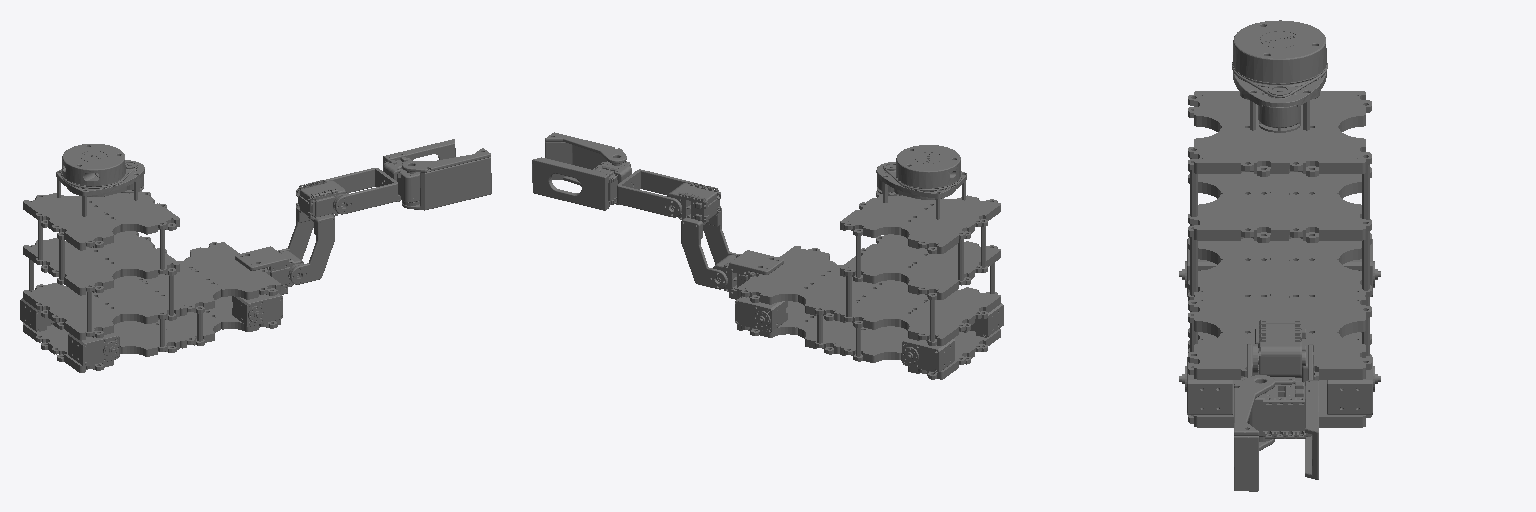
robot.urdf — ai_car:
<?xml version="1.0"?>
<robot name="ai_car">
    <material name="grey">
        <color rgba="0.5 0.5 0.5 1.0"/>
    </material>

    <link name="base_footprint"/>

    <joint name="base_joint" type="fixed">
        <parent link="base_footprint"/>
        <child link="base_link"/>
        <origin xyz="0.0 0.0 0.010" rpy="0 0 0"/>
    </joint>

    <link name="base_link">
        <visual>
            <geometry>
                <mesh filename="package://ai_car/meshs/base_link.stl" scale="0.001 0.001 0.001"/>
            </geometry>
            <material name="grey"/>
        </visual>

        <collision>
            <origin xyz="0.0 0 0.09" rpy="0 0 0"/>
            <geometry>
                <box size="0.27 0.14 0.19"/>
            </geometry>
        </collision>

        <inertial>
            <origin xyz="0 0 0" rpy="0 0 0"/>
            <mass value="8.2573504e-01"/>
            <inertia ixx="2.2124416e-03" ixy="-1.2294101e-05" ixz="3.4938785e-05"
                    iyy="2.1193702e-03" iyz="-5.0120904e-06"
                    izz="2.0064271e-03" />
        </inertial>
    </link>

    <joint name="wheel_left_joint" type="continuous">
        <parent link="base_link"/>
        <child link="wheel_left_link"/>
        <axis xyz="0 0 1"/>
        <origin xyz="0.092 0.08 0.023" rpy="-1.57 0 0"/>
    </joint>

    <link name="wheel_left_link">
        <visual>
            <origin xyz="0.0 0.0 0.0" rpy="1.57 0.0 0.0"/>
            <geometry>
                <mesh filename="package://ai_car/meshs/left_tire.stl" scale="0.001 0.001 0.001"/>
            </geometry>
            <material name="grey"/>
        </visual>

        <collision>
            <origin xyz="0 0 0" rpy="0 0 0"/>
            <geometry>
                <cylinder length="0.018" radius="0.033"/>
            </geometry>
        </collision>

        <inertial>
            <origin xyz="0 0 0" />
            <mass value="2.8498940e-02" />
            <inertia ixx="1.1175580e-05" ixy="-4.2369783e-11" ixz="-5.9381719e-09"
                    iyy="1.1192413e-05" iyz="-1.4400107e-11"
                    izz="2.0712558e-05" />
        </inertial>
    </link>

    <joint name="wheel_right_joint" type="continuous">
        <parent link="base_link"/>
        <child link="wheel_right_link"/>
        <axis xyz="0 0 1"/>
        <origin xyz="0.092 -0.08 0.023" rpy="-1.57 0 0"/>
    </joint>

    <link name="wheel_right_link">
        <visual>
            <origin xyz="0.0 0.0 0.0" rpy="1.57 0.0 0.0"/>
            <geometry>
                <mesh filename="package://ai_car/meshs/right_tire.stl" scale="0.001 0.001 0.001"/>
            </geometry>
            <material name="grey"/>
        </visual>

        <collision>
            <origin xyz="0 0 0" rpy="0 0 0"/>
            <geometry>
                <cylinder length="0.018" radius="0.033"/>
            </geometry>
        </collision>

        <inertial>
            <origin xyz="0 0 0" />
            <mass value="2.8498940e-02" />
            <inertia ixx="1.1175580e-05" ixy="-4.2369783e-11" ixz="-5.9381719e-09"
                    iyy="1.1192413e-05" iyz="-1.4400107e-11"
                    izz="2.0712558e-05" />
        </inertial>
    </link>

    <joint name="wheel_rear_left_joint" type="continuous">
        <parent link="base_link"/>
        <child link="wheel_rear_left_link"/>
        <axis xyz="0 0 1"/>
        <origin xyz="-0.092 0.08 0.023" rpy="-1.57 0 0"/>
    </joint>

    <link name="wheel_rear_left_link">
        <visual>
            <origin xyz="0.0 0.0 0.0" rpy="1.57 0.0 0.0"/>
            <geometry>
                <mesh filename="package://ai_car/meshs/left_tire.stl" scale="0.001 0.001 0.001"/>
            </geometry>
            <material name="grey"/>
        </visual>

        <collision>
            <origin xyz="0 0 0" rpy="0 0 0"/>
            <geometry>
                <cylinder length="0.018" radius="0.033"/>
            </geometry>
        </collision>

        <inertial>
            <origin xyz="0 0 0" />
            <mass value="2.8498940e-02" />
            <inertia ixx="1.1175580e-05" ixy="-4.2369783e-11" ixz="-5.9381719e-09"
                    iyy="1.1192413e-05" iyz="-1.4400107e-11"
                    izz="2.0712558e-05" />
        </inertial>
    </link>

    <joint name="wheel_rear_right_joint" type="continuous">
        <parent link="base_link"/>
        <child link="wheel_rear_right_link"/>
        <axis xyz="0 0 1"/>
        <origin xyz="-0.092 -0.08 0.023" rpy="-1.57 0 0"/>
    </joint>

    <link name="wheel_rear_right_link">
        <visual>
            <origin xyz="0.0 0.0 0.0" rpy="1.57 0.0 0.0"/>
            <geometry>
                <mesh filename="package://ai_car/meshs/right_tire.stl" scale="0.001 0.001 0.001"/>
            </geometry>
            <material name="grey"/>
        </visual>

        <collision>
            <origin xyz="0 0 0" rpy="0 0 0"/>
            <geometry>
                <cylinder length="0.018" radius="0.033"/>
            </geometry>
        </collision>

        <inertial>
            <origin xyz="0 0 0" />
            <mass value="2.8498940e-02" />
            <inertia ixx="1.1175580e-05" ixy="-4.2369783e-11" ixz="-5.9381719e-09"
                    iyy="1.1192413e-05" iyz="-1.4400107e-11"
                    izz="2.0712558e-05" />
        </inertial>
    </link>

    <joint name="scan_joint" type="fixed">
        <parent link="base_link"/>
        <child link="base_scan"/>
        <origin xyz="-0.064 0.0 0.22" rpy="0.0 0.0 0.0"/>
    </joint>

    <link name="base_scan">
        <visual>
            <origin xyz="0.0 0.0 -0.022" rpy="0.0 0.0 0.0"/>
            <geometry>
                <mesh filename="package://ai_car/meshs/RP-lidar-A1.stl" scale="0.001 0.001 0.001"/>
            </geometry>
            <material name="grey"/>
        </visual>

        <collision>
            <origin xyz="0 0 -0.0065" rpy="0 0 0"/>
            <geometry>
                <cylinder length="0.0315" radius="0.055"/>
            </geometry>
        </collision>

        <inertial>
            <mass value="0.114" />
            <origin xyz="0 0 0" />
            <inertia ixx="0.001" ixy="0.0" ixz="0.0"
                    iyy="0.001" iyz="0.0"
                    izz="0.001" />
        </inertial>
    </link>

    <joint name="imu_joint" type="fixed">
        <parent link="base_link"/>
        <child link="imu_link"/>
        <origin xyz="0.04 0.0 0.0" rpy="0.0 0.0 0.0"/>
    </joint>

    <link name="imu_link"/>
    
    <joint name="arm_joint_1" type="revolute">
        <parent link="base_link"/>
        <child link="arm_link_1"/>
        <axis xyz="0 1 0"/>
        <limit lower="0" upper="1.57" velocity="50.0" effort="1000.0"/>
        <origin xyz="0.1735 -0.020375 0.03225" rpy="-3.14 1.57 0.0"/>
    </joint>

    <link name="arm_link_1">
        <visual>
            <origin xyz="0.0 0.0 0.0" rpy="3.14 0.0 0.0"/>
            <geometry>
                <mesh filename="package://ai_car/meshs/arm_link_1.stl" scale="0.001 0.001 0.001"/>
            </geometry>
            <material name="grey"/>
        </visual>

        <collision>
            <origin xyz="0 0 0" rpy="3.14 0 0"/>
            <geometry>
                <mesh filename="package://ai_car/meshs/arm_link_1.stl" scale="0.001 0.001 0.001"/>
            </geometry>
        </collision>

        <inertial>
            <origin xyz="3.0876154e-04 0.0000000e+00 -1.2176461e-04" />
            <mass value="7.9119962e-02" />
            <inertia ixx="1.2505234e-05" ixy="0.0" ixz="-1.7855208e-07"
                    iyy="2.1898364e-05" iyz="0.0"
                    izz="1.9267361e-05" />
        </inertial>
    </link>
    
    <joint name="arm_joint_2" type="revolute">
        <parent link="arm_link_1"/>
        <child link="arm_link_2"/>
        <axis xyz="0 1 0"/>
        <limit lower="-1.57" upper="0" velocity="50.0" effort="1000.0"/>
        <origin xyz="-0.072 0.0 -0.0568" rpy="0 1.57 0"/>

    </joint>

    <link name="arm_link_2">
        <visual>
            <origin xyz="0.0 0.0 0.0" rpy="3.14 0.0 0.0"/>
            <geometry>
                <mesh filename="package://ai_car/meshs/arm_link_2.stl" scale="0.001 0.001 0.001"/>
            </geometry>
            <material name="grey"/>
        </visual>

        <collision>
            <origin xyz="0 0 0" rpy="3.14 -0.785 0.0"/>
            <geometry>
                <mesh filename="package://ai_car/meshs/arm_link_2.stl" scale="0.001 0.001 0.001"/>
            </geometry>
        </collision>

        <inertial>
            <origin xyz="3.0876154e-04 0.0000000e+00 -1.2176461e-04" />
            <mass value="7.9119962e-02" />
            <inertia ixx="1.2505234e-05" ixy="0.0" ixz="-1.7855208e-07"
                    iyy="2.1898364e-05" iyz="0.0"
                    izz="1.9267361e-05" />
        </inertial>
    </link>
    
    <joint name="tool_joint" type="revolute">
        <parent link="arm_link_2"/>
        <child link="arm_tool"/>
        <axis xyz="0 0 1"/>
        <limit lower="-0.4" upper="0.8" velocity="50.0" effort="1000.0"/>
        <origin xyz="0.09125 -0.00625 0.021" rpy="0 0 0"/>
    </joint>

    <link name="arm_tool">
        <visual>
            <origin xyz="0.0 0.0 0.0" rpy="3.14 0.0 0.0"/>
            <geometry>
                <mesh filename="package://ai_car/meshs/arm_tool.stl" scale="0.001 0.001 0.001"/>
            </geometry>
            <material name="grey"/>
        </visual>

        <collision>
            <origin xyz="0 0 0" rpy="3.14 0 0"/>
            <geometry>
                <mesh filename="package://ai_car/meshs/arm_tool.stl" scale="0.001 0.001 0.001"/>
            </geometry>
        </collision>

        <inertial>
            <origin xyz="3.0876154e-04 0.0000000e+00 -1.2176461e-04" />
            <mass value="7.9119962e-02" />
            <inertia ixx="1.2505234e-05" ixy="0.0" ixz="-1.7855208e-07"
                    iyy="2.1898364e-05" iyz="0.0"
                    izz="1.9267361e-05" />
        </inertial>
    </link>

</robot>

--- Render facts (derived) ---
The picture shows the robot from 3 angles, left to right: view 1: azimuth 30°, elevation 25°; view 2: azimuth 150°, elevation 25°; view 3: azimuth 270°, elevation 25°; orthographic projection.
Robot: ai_car — 11 links, 10 joints (3 revolute, 4 continuous, 3 fixed); root link base_footprint; default pose: all joints at 0.
Links seen in each view (by area): view 1: base_link, arm_link_2, base_scan, arm_link_1, arm_tool; view 2: base_link, arm_link_2, base_scan, arm_link_1, arm_tool; view 3: base_link, base_scan, arm_link_2, arm_tool, arm_link_1.
Boxes of the visible links, x1,y1,x2,y2 form: base_link: (20, 191, 303, 372); arm_link_2: (325, 139, 455, 214); base_scan: (56, 144, 144, 216); arm_link_1: (280, 180, 348, 284); arm_tool: (402, 148, 491, 210); base_link: (713, 191, 1003, 379); arm_link_2: (532, 157, 691, 217); base_scan: (876, 145, 966, 219); arm_link_1: (667, 182, 737, 289); arm_tool: (545, 132, 626, 185); base_link: (1179, 91, 1380, 427); base_scan: (1232, 20, 1327, 132); arm_link_2: (1247, 344, 1318, 479); arm_tool: (1234, 375, 1274, 491); arm_link_1: (1252, 320, 1313, 381).
Size in the robot's own frame: 0.5443 by 0.1508 by 0.2247 metres.
Meshes: 7 distinct files referenced, 5 mesh visuals loaded (5 binary STL); not drawn: 4 (reference not matched to a file when rendering).